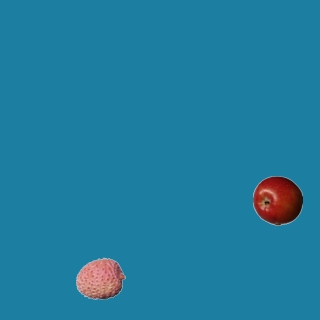Apple Braeburn: (252, 175, 302, 225)
Lychee: (75, 253, 125, 303)
